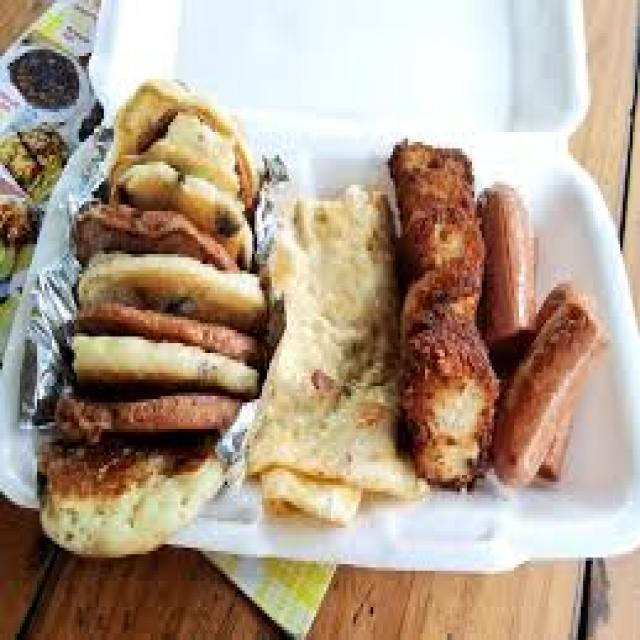Omelette: (264, 171, 388, 518)
Pancakes: (64, 86, 225, 564)
